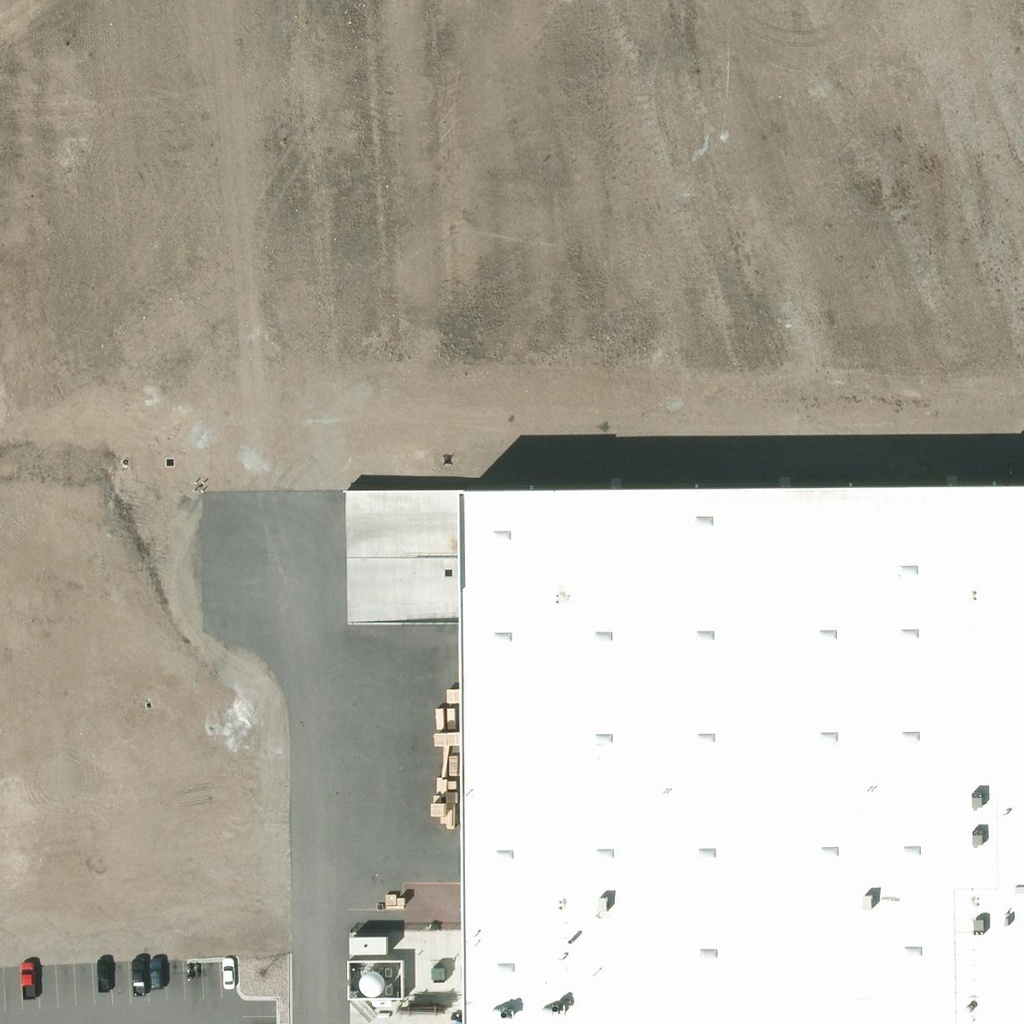car: (95, 957, 114, 991), (221, 959, 236, 991), (151, 957, 164, 990)
pickup: (19, 964, 38, 1001), (129, 960, 148, 997)
